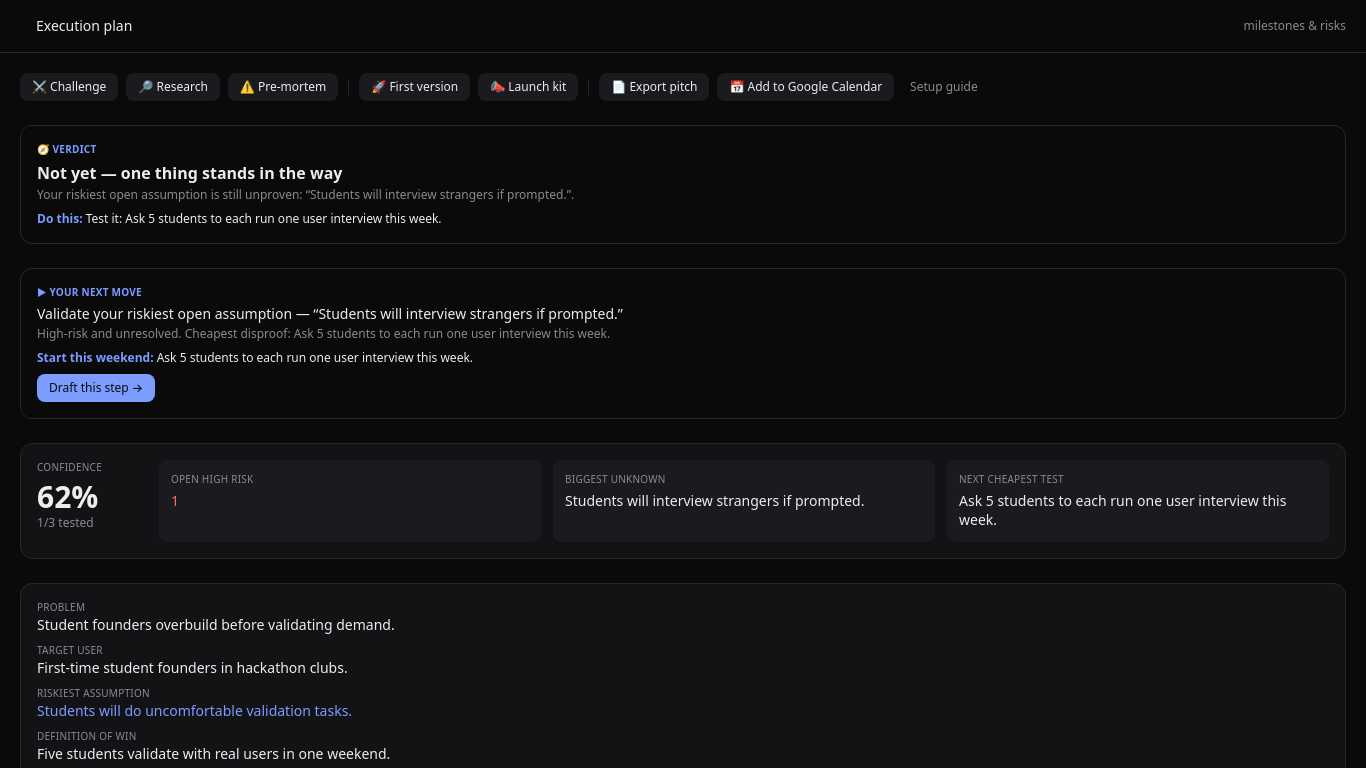
Test case: PlanPanel › surfaces the decisive next move and drafts it on click
Expected: the text "▶ Your next move" is shown, [37,285,142,299]
Expected: the text "Students will interview strangers" is shown, [37,186,574,203]
Click the button "Draft this step →": {"x": 96, "y": 388} [37,374,155,402]
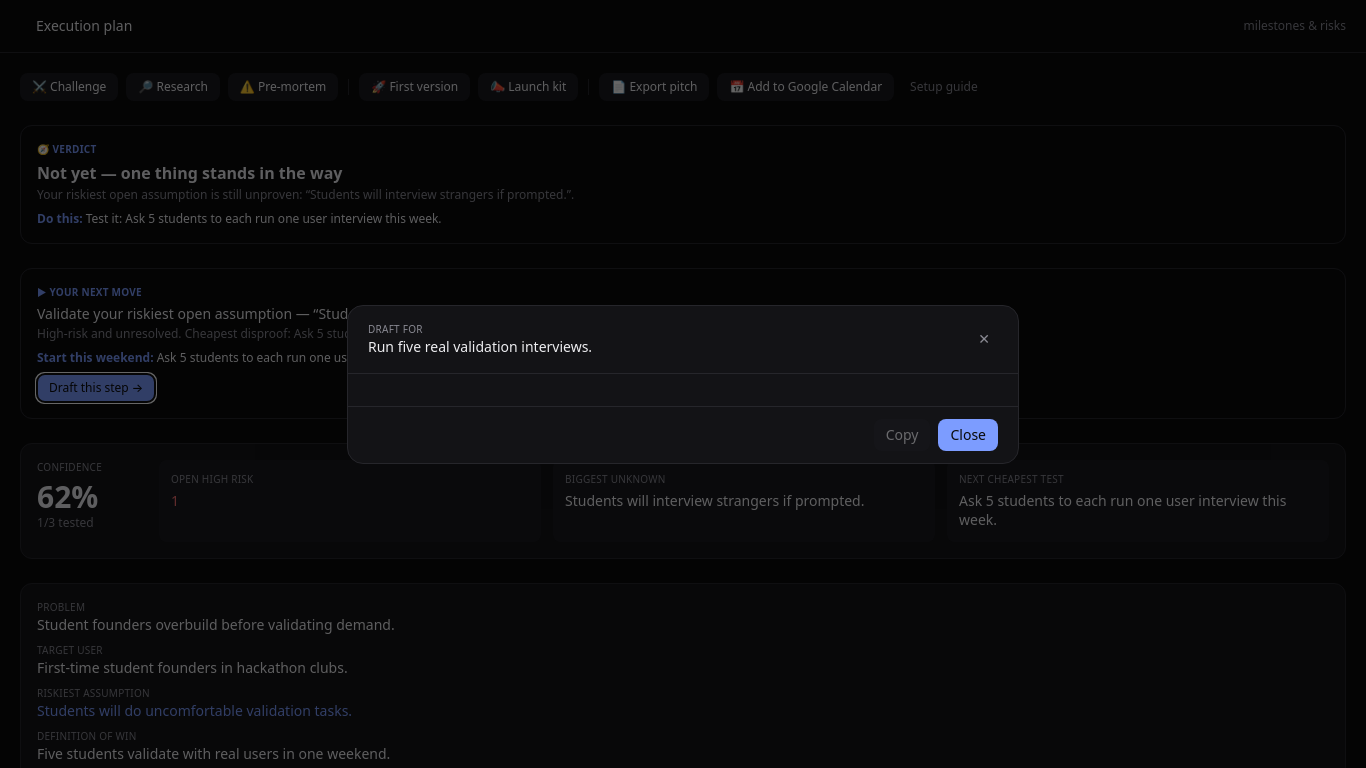
Expected: the text "Draft for" is shown, [368,322,423,336]
